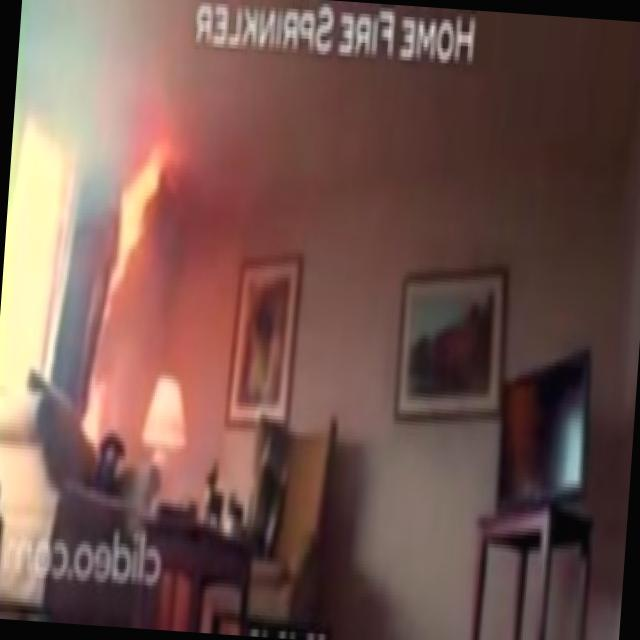fire: (58, 115, 203, 374)
